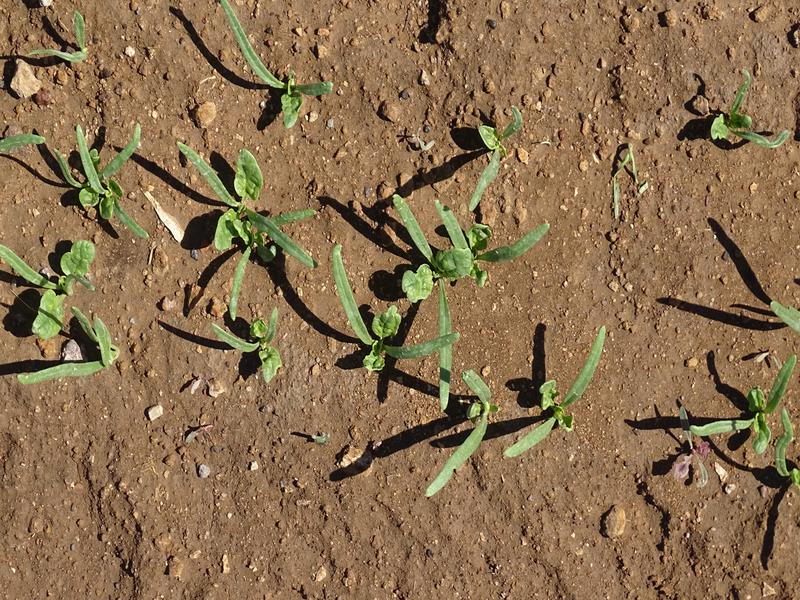Espinaca: (340, 112, 616, 475), (174, 120, 322, 382), (9, 123, 149, 383), (676, 344, 800, 471), (223, 4, 329, 119), (705, 89, 792, 175)
